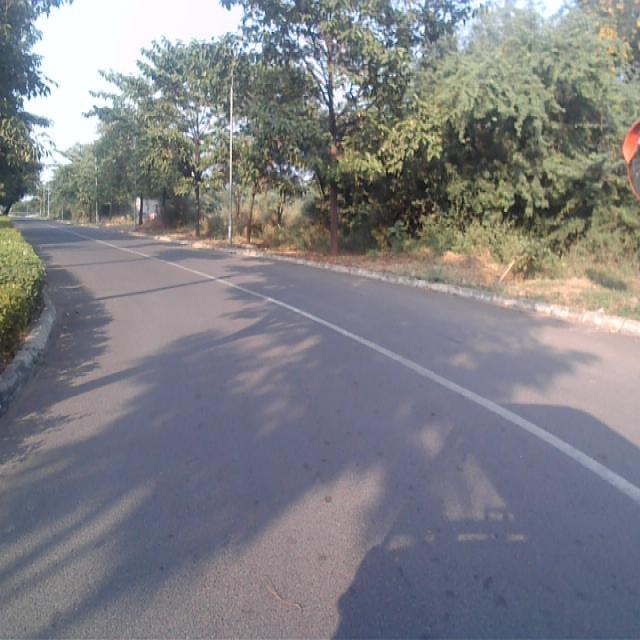lane: (0, 230, 640, 640)
